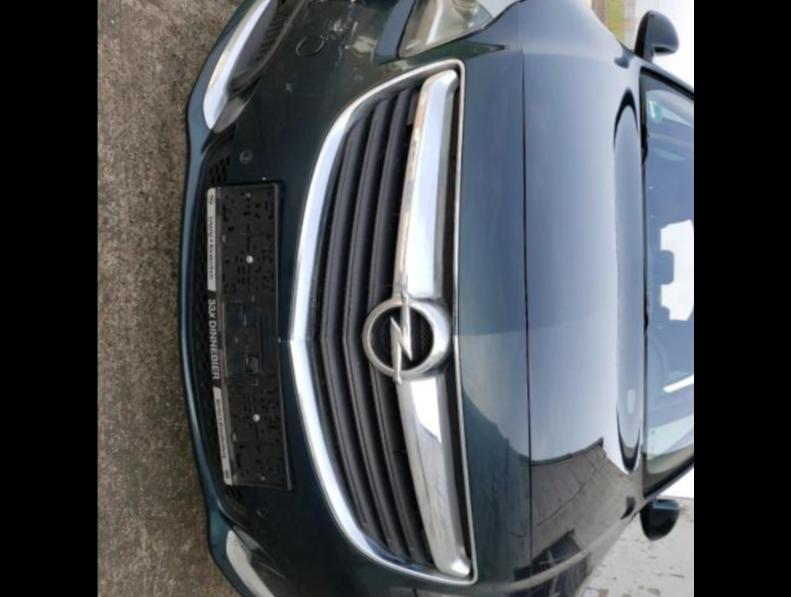Broken part: (175, 0, 531, 597)
Missing part: (206, 183, 283, 483)
Scratch: (319, 0, 360, 44), (330, 43, 348, 73), (284, 81, 295, 92)
